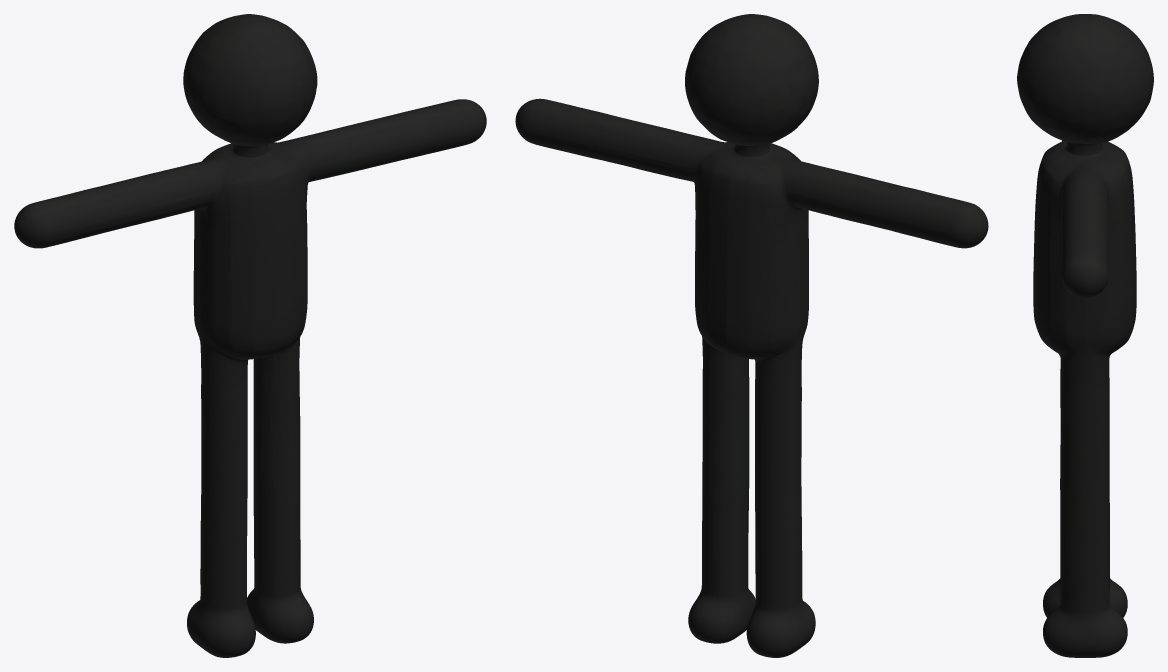
File: stickman.fbx
3 views of the same model, side by side, from view 1: azimuth 30°, elevation 25°; view 2: azimuth 150°, elevation 25°; view 3: azimuth 270°, elevation 25° (orthographic).
Visible parts, largest first — view 1: node_3e8ed4fb_394c_4e38_ac19_eabb0723817f_mesh0; view 2: node_3e8ed4fb_394c_4e38_ac19_eabb0723817f_mesh0; view 3: node_3e8ed4fb_394c_4e38_ac19_eabb0723817f_mesh0.
Part boxes in pixels (<box>): node_3e8ed4fb_394c_4e38_ac19_eabb0723817f_mesh0: <box>14,14,486,657</box>; node_3e8ed4fb_394c_4e38_ac19_eabb0723817f_mesh0: <box>515,14,988,657</box>; node_3e8ed4fb_394c_4e38_ac19_eabb0723817f_mesh0: <box>1017,14,1153,657</box>.
Bounding box in the file's own units: 157 × 199 × 39.96.
1 material, 1 textured.
